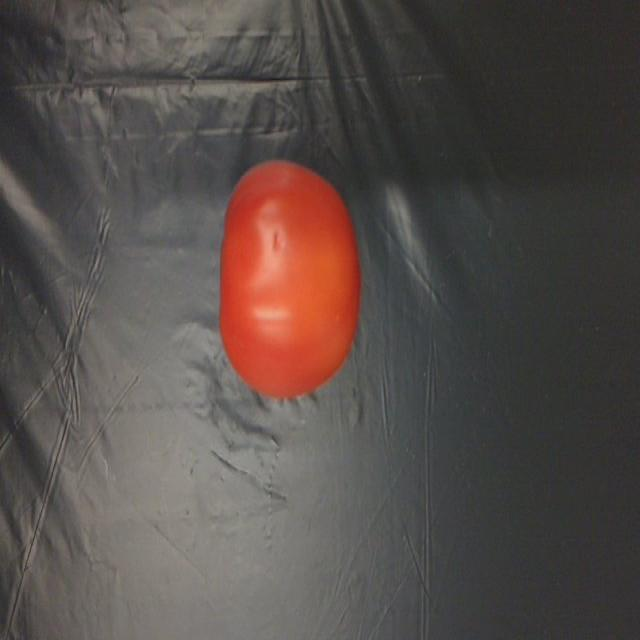kirmizi: (226, 158, 364, 404)
